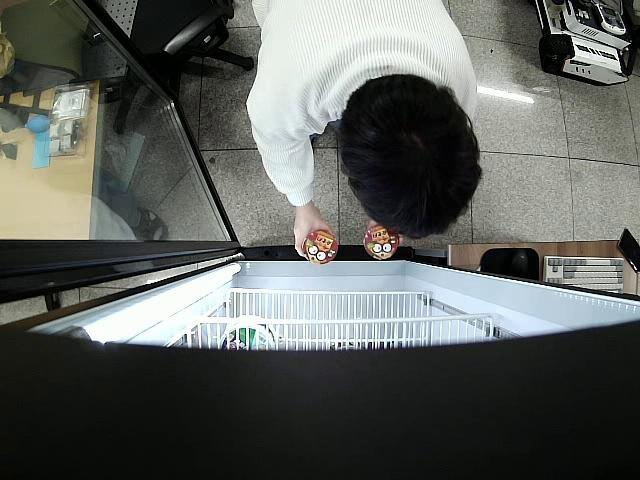06_nuguri_S: (304, 230, 339, 266), (365, 227, 400, 262)
